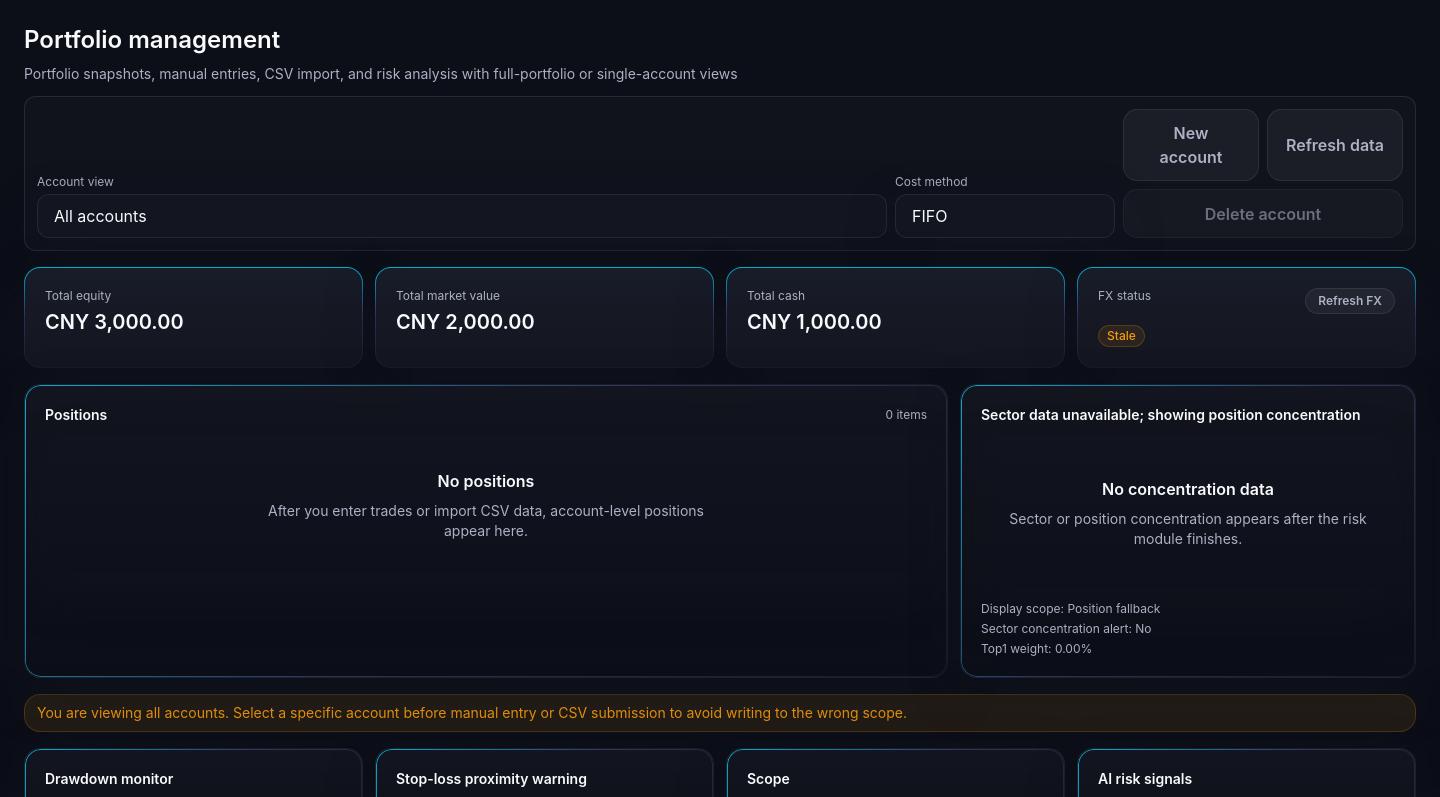
it: PortfolioPage FX refresh › drops late FX refresh results after switching to another account scope
Select "Main (#1)" in the 1st dropdown: (462, 216) [37, 194, 887, 238]
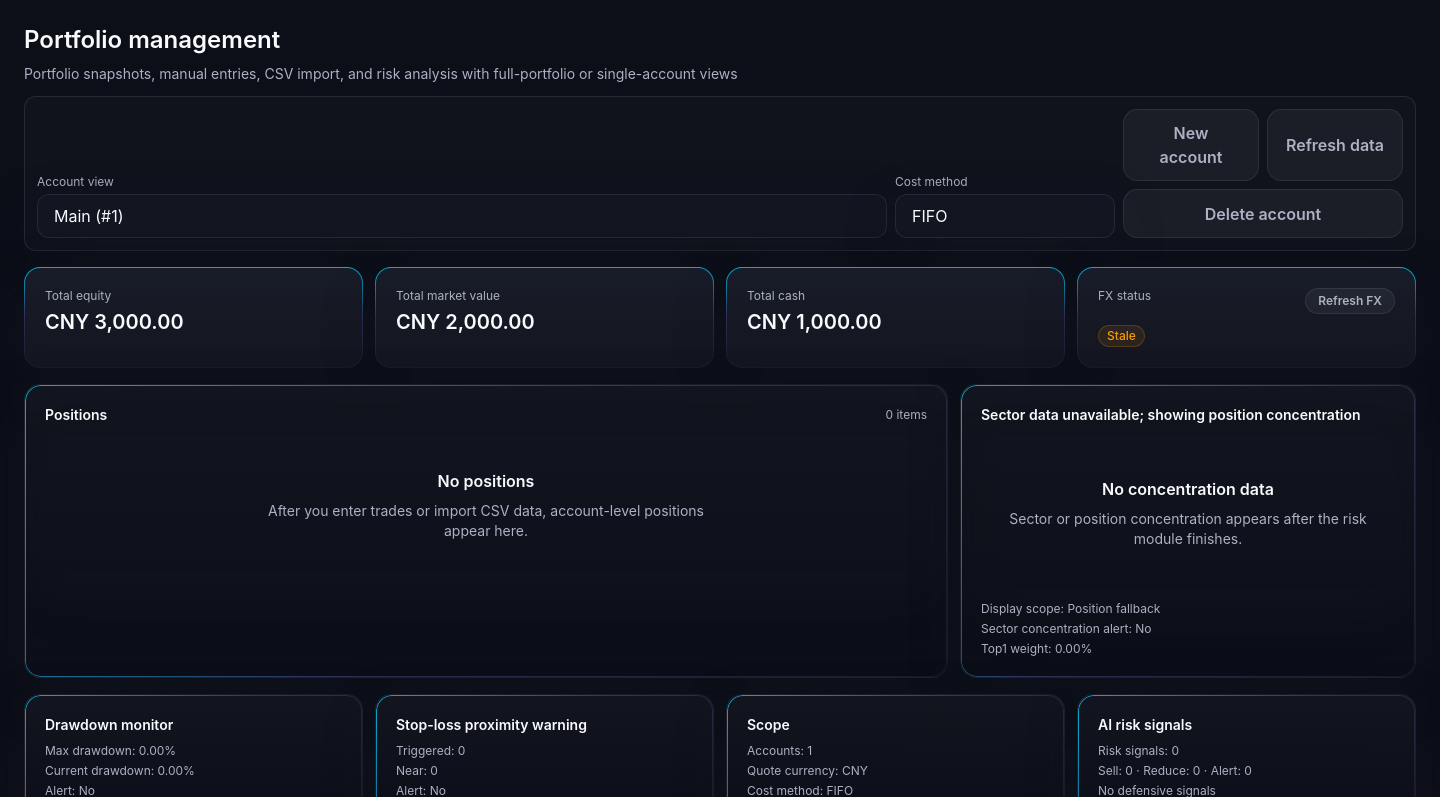
Click the button "Refresh FX": (1350, 301) [1305, 288, 1395, 314]
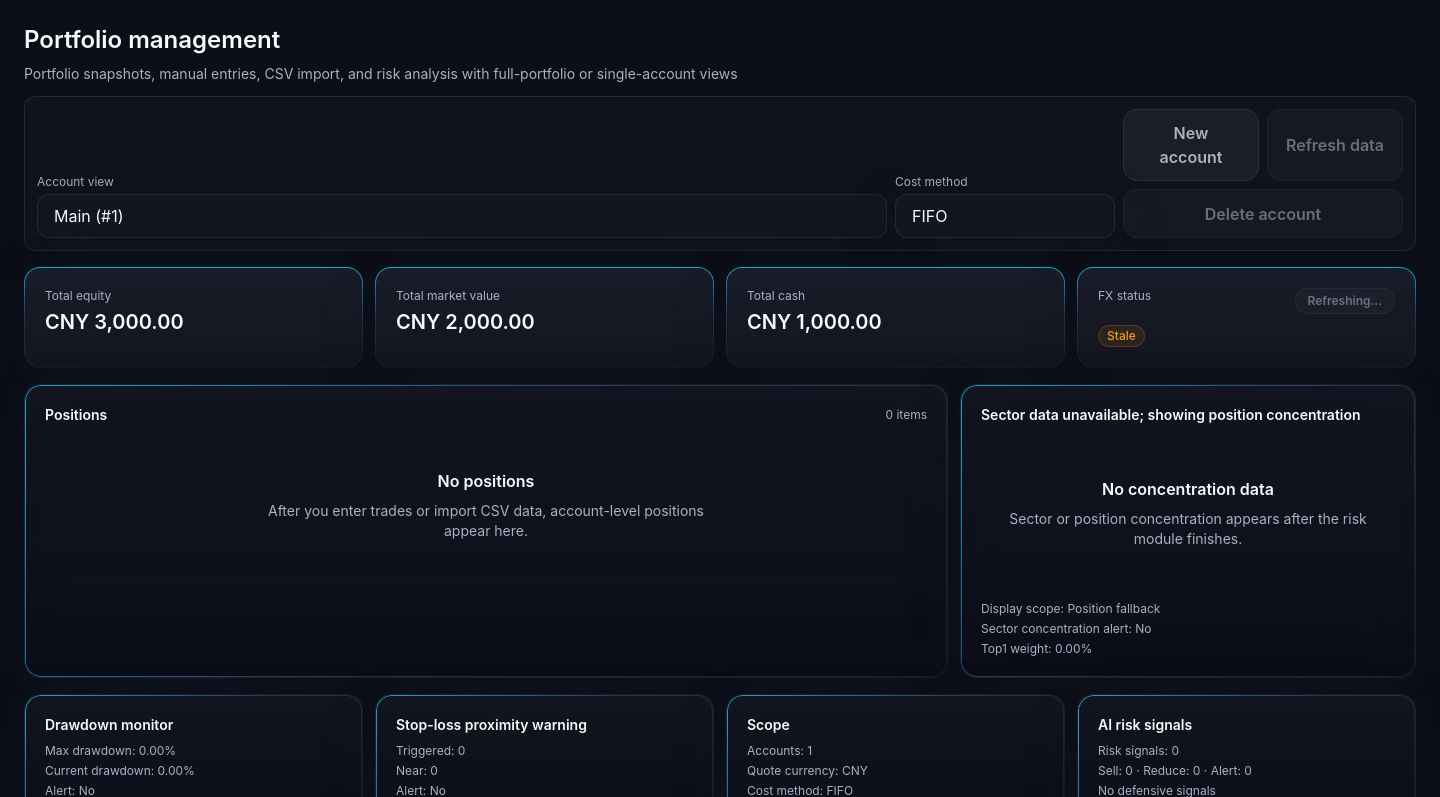
Result: the button "Refreshing..." is disabled at [1295, 288, 1395, 314]
Select "Alt (#2)" in the 1st dropdown: (462, 216) [37, 194, 887, 238]
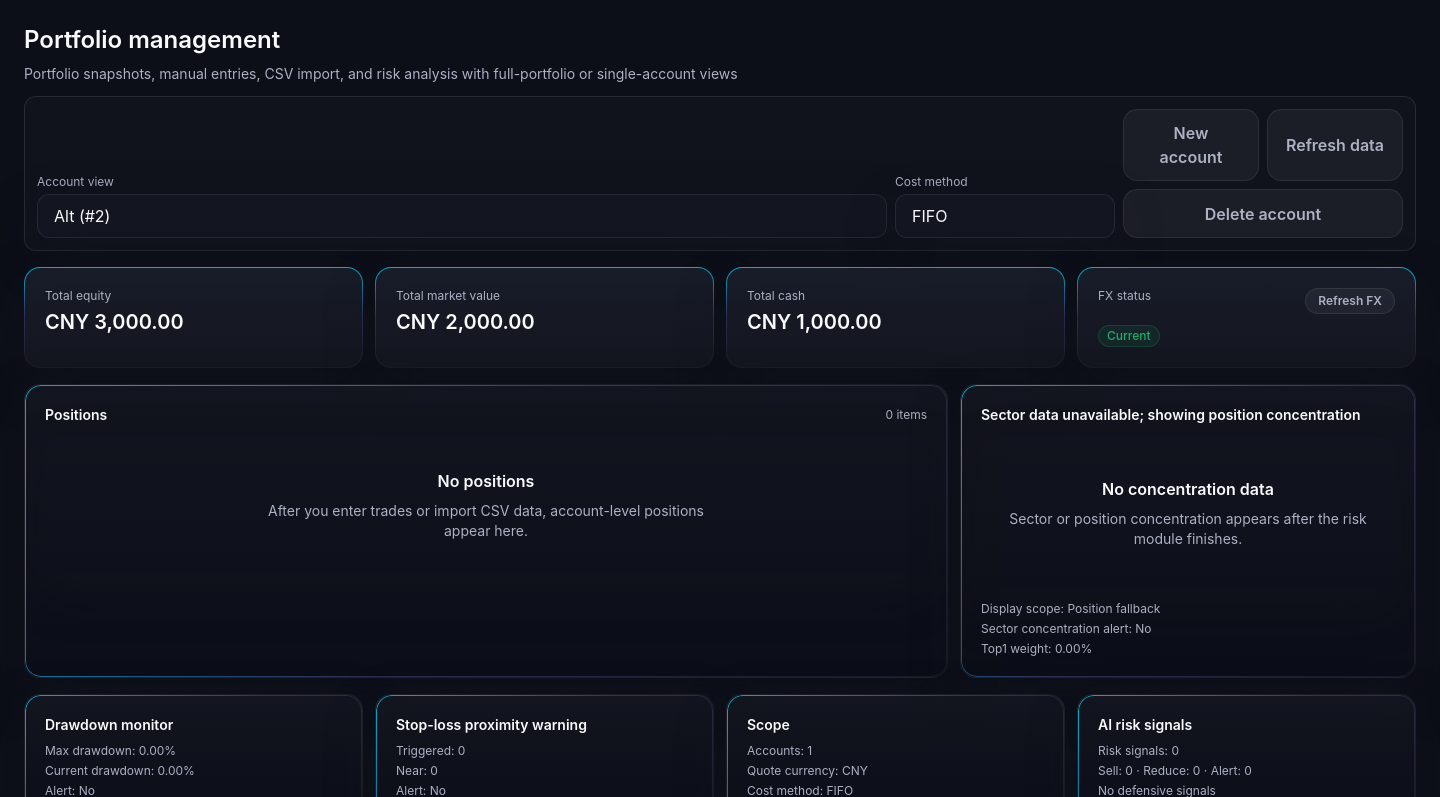
Result: the button "Refresh FX" is enabled at [1305, 288, 1395, 314]
